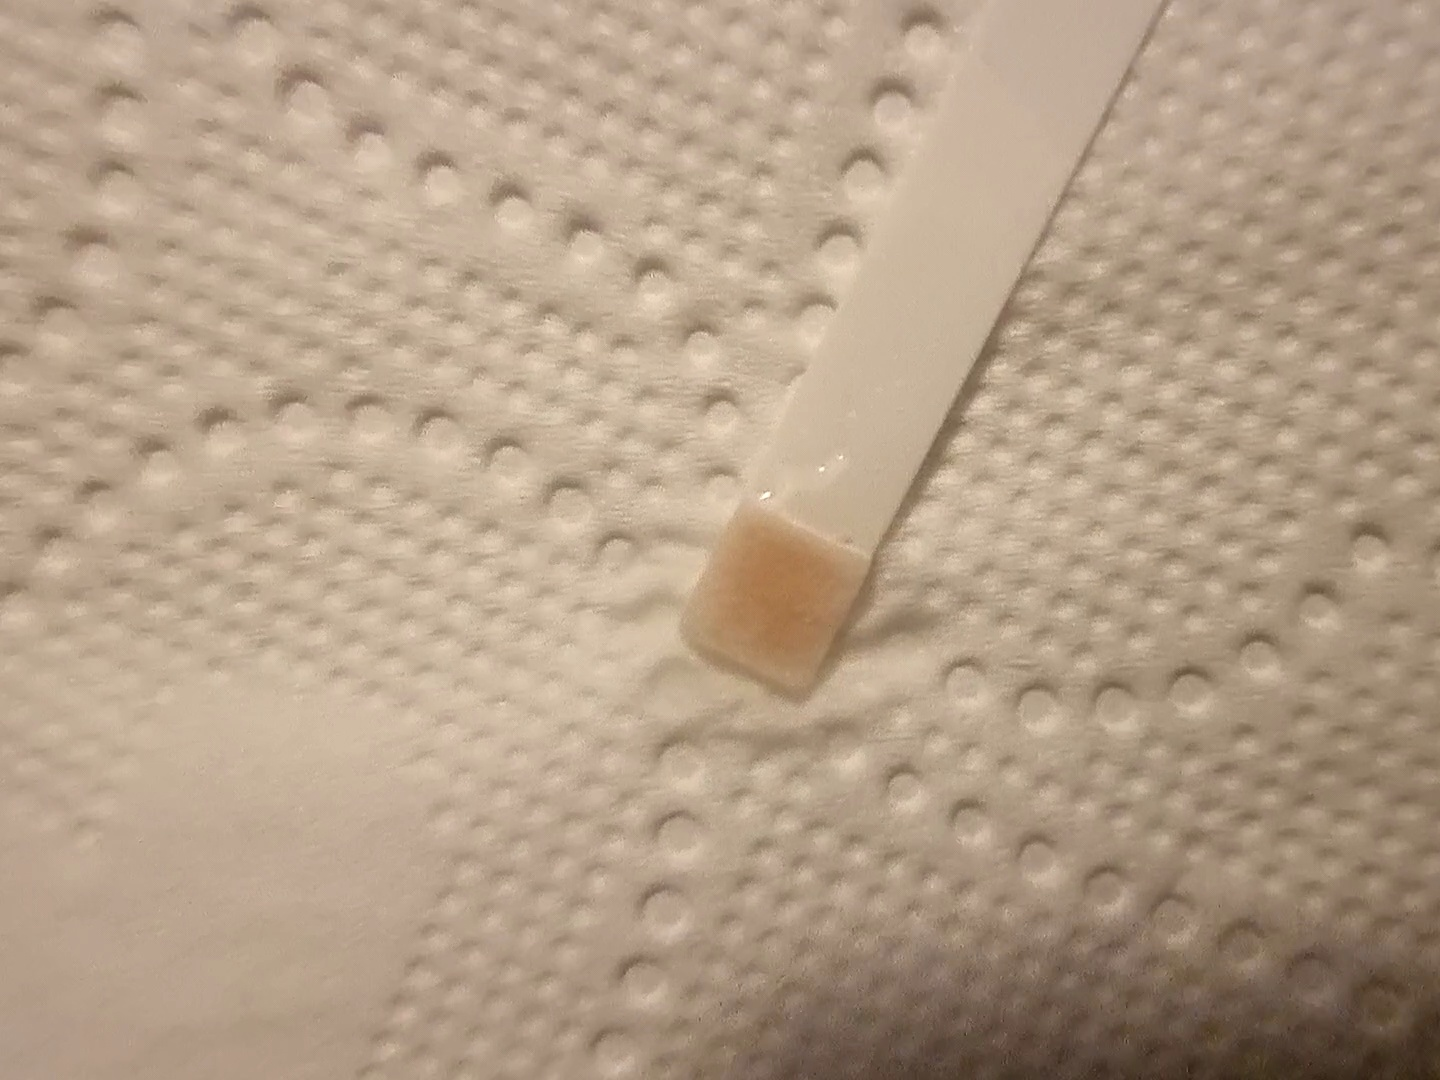keto-tip: (674, 493, 880, 708)
